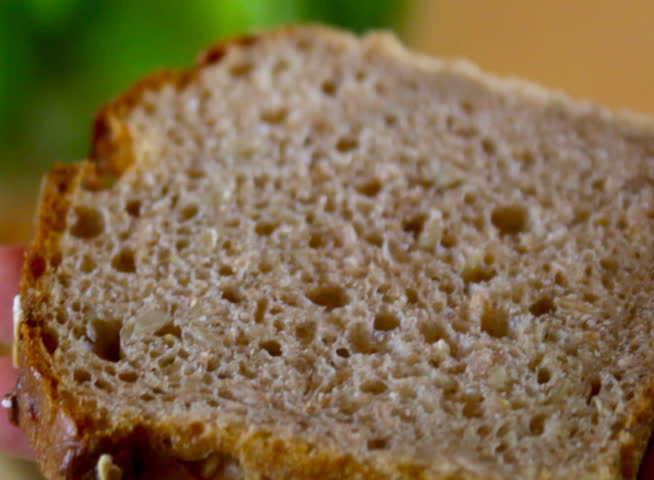slice of bread: (18, 25, 654, 478)
